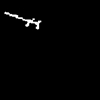double_crochet: (5, 12, 40, 28)
